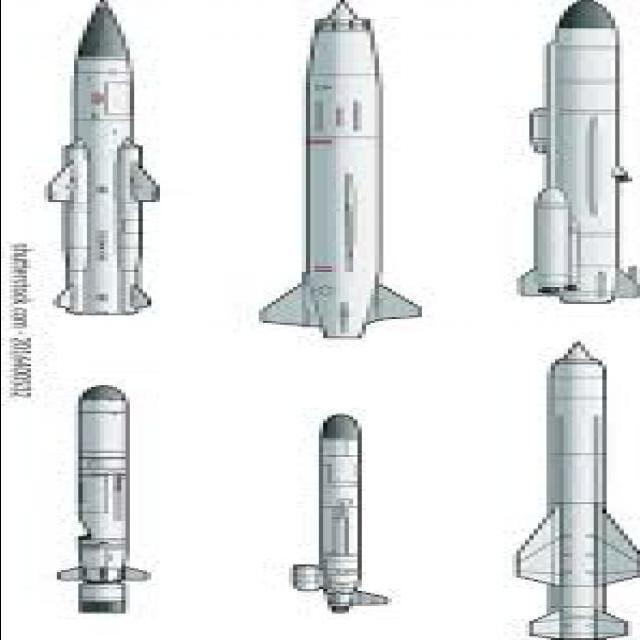Missile: (240, 0, 439, 344), (472, 339, 640, 637), (37, 0, 173, 322), (501, 0, 640, 308), (275, 410, 411, 628), (48, 385, 152, 628)
